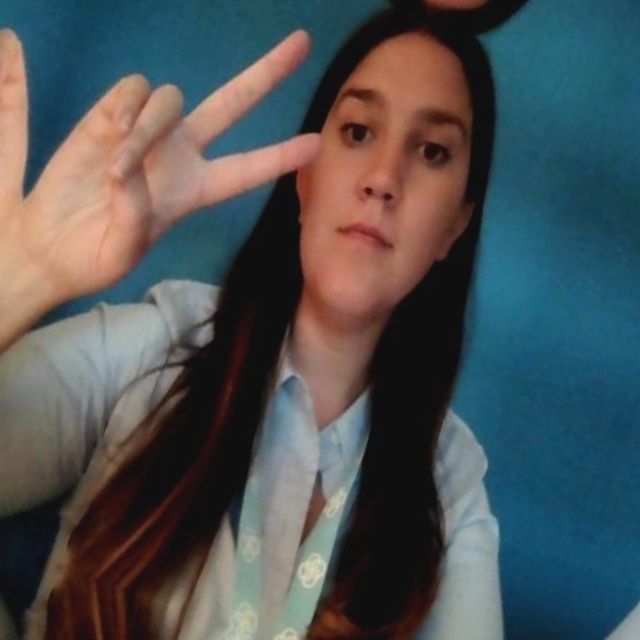Scissors: (6, 0, 358, 362)
